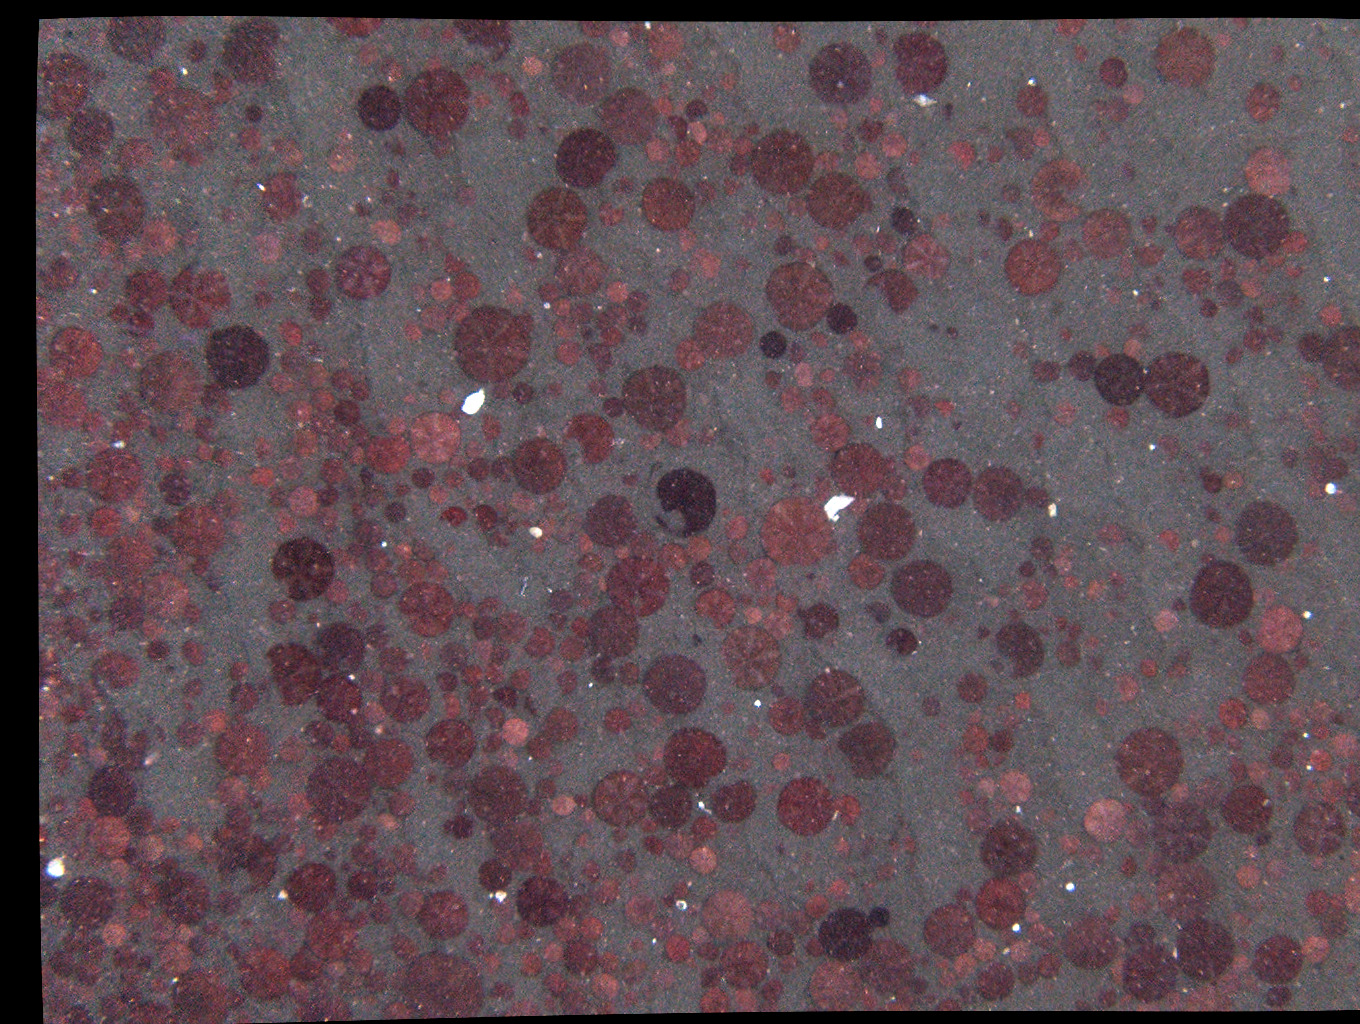Substrate A: (70, 26, 89, 41)
sand dollar: (450, 305, 536, 382), (407, 949, 493, 1022), (760, 495, 832, 564), (407, 74, 476, 146), (652, 465, 718, 534), (765, 262, 833, 329), (221, 18, 286, 84), (1189, 560, 1252, 625), (1233, 504, 1297, 569), (307, 756, 376, 815), (858, 500, 922, 561), (626, 362, 690, 424), (1144, 353, 1208, 414), (1225, 194, 1289, 255), (1155, 27, 1219, 88), (1031, 157, 1096, 218), (810, 166, 874, 227), (78, 177, 143, 239), (108, 12, 172, 73), (396, 579, 460, 640), (272, 539, 337, 600), (143, 351, 207, 412), (552, 123, 616, 184), (468, 760, 532, 822), (800, 667, 864, 728), (1174, 920, 1239, 981), (1116, 941, 1180, 1002), (1240, 650, 1304, 711), (1153, 862, 1217, 923), (891, 554, 955, 615), (831, 441, 894, 502), (691, 298, 755, 359), (1008, 236, 1072, 297), (806, 39, 870, 100), (333, 239, 397, 300), (206, 326, 270, 387), (164, 266, 228, 327), (247, 159, 311, 221), (35, 58, 99, 119), (719, 625, 783, 686), (604, 551, 668, 612), (605, 74, 669, 136), (549, 43, 613, 104), (631, 180, 695, 241), (589, 768, 653, 829), (974, 821, 1037, 882), (836, 720, 900, 781), (887, 32, 951, 93), (754, 131, 818, 191), (256, 644, 320, 705), (513, 432, 577, 493), (169, 503, 233, 564), (524, 190, 588, 251), (781, 774, 845, 835), (1002, 617, 1066, 678), (146, 93, 210, 153), (661, 729, 725, 790), (645, 658, 708, 719), (803, 956, 867, 1016), (1121, 731, 1185, 792), (700, 884, 759, 945), (552, 247, 612, 304), (83, 452, 141, 510), (1170, 205, 1228, 262), (1154, 803, 1212, 861), (409, 407, 467, 463), (301, 919, 359, 975), (286, 862, 344, 918), (237, 945, 295, 1001), (101, 705, 159, 760), (514, 876, 571, 931), (1218, 782, 1275, 838), (971, 465, 1029, 520), (211, 724, 269, 779), (216, 834, 274, 888), (174, 969, 232, 1024), (152, 868, 210, 923), (59, 877, 117, 931), (87, 764, 145, 819), (353, 728, 411, 783), (321, 667, 380, 722), (376, 672, 434, 727), (311, 623, 369, 678), (1288, 805, 1346, 859), (1180, 959, 1236, 1015), (409, 886, 466, 941), (1080, 204, 1139, 258), (38, 382, 94, 437), (1066, 915, 1122, 970), (1251, 929, 1307, 984), (862, 936, 919, 990), (920, 456, 975, 511), (1241, 144, 1295, 199), (821, 906, 876, 959), (65, 108, 117, 163), (587, 495, 641, 549), (869, 261, 924, 314), (1317, 323, 1360, 389), (919, 907, 973, 959), (47, 327, 100, 380), (724, 934, 776, 986), (1090, 353, 1142, 407), (140, 573, 194, 625), (590, 610, 643, 662), (566, 411, 619, 461), (456, 18, 517, 62), (493, 817, 547, 866), (425, 721, 479, 768), (1250, 605, 1305, 652), (973, 877, 1022, 928), (84, 815, 137, 864), (903, 233, 953, 282), (1080, 790, 1131, 837), (99, 646, 147, 695), (970, 956, 1019, 1004), (108, 532, 154, 582), (713, 780, 759, 828), (649, 786, 695, 834), (123, 265, 172, 308), (354, 88, 401, 131), (324, 15, 389, 45), (123, 989, 177, 1024), (801, 599, 843, 639), (692, 587, 735, 626), (370, 433, 410, 473), (1246, 79, 1285, 119), (309, 994, 359, 1024), (765, 698, 804, 736), (811, 413, 851, 449), (40, 258, 81, 293), (151, 221, 185, 259), (851, 549, 887, 585), (1212, 696, 1248, 730), (885, 626, 924, 658), (118, 140, 155, 173), (850, 362, 887, 396), (649, 27, 686, 59), (343, 42, 377, 75), (998, 771, 1032, 803), (563, 940, 597, 972), (396, 841, 428, 873), (667, 422, 698, 454), (746, 558, 777, 591), (112, 598, 143, 629), (802, 227, 835, 256), (1164, 654, 1194, 685), (381, 643, 414, 671), (1117, 252, 1150, 280), (549, 288, 579, 318), (277, 733, 306, 764), (376, 807, 407, 836), (546, 709, 574, 740), (386, 787, 417, 815), (1155, 529, 1182, 561), (60, 177, 89, 207), (62, 216, 91, 245), (35, 293, 65, 322), (117, 339, 146, 368), (106, 299, 135, 328), (372, 217, 401, 246), (399, 193, 428, 222), (128, 310, 157, 339), (118, 237, 147, 266), (178, 224, 207, 253), (178, 143, 207, 172), (384, 165, 413, 194), (505, 117, 534, 146), (507, 85, 536, 114), (488, 67, 517, 96), (522, 49, 552, 79), (460, 87, 489, 116), (462, 54, 491, 83), (442, 23, 471, 52), (433, 139, 462, 168), (420, 51, 449, 80), (278, 318, 307, 347), (255, 283, 284, 312), (307, 291, 337, 321), (306, 266, 335, 295), (253, 236, 282, 265), (300, 228, 329, 257), (449, 182, 478, 211), (380, 138, 409, 167), (329, 144, 358, 173), (377, 57, 406, 86), (149, 62, 178, 91), (178, 37, 207, 66), (209, 74, 238, 103), (276, 139, 305, 168), (241, 127, 270, 156), (245, 100, 274, 129), (74, 158, 103, 187), (163, 146, 192, 175), (31, 169, 60, 198), (777, 383, 806, 412), (788, 360, 817, 389), (824, 304, 853, 333), (805, 325, 834, 354), (754, 358, 783, 387), (781, 336, 810, 365), (756, 330, 785, 359), (728, 252, 757, 281), (695, 248, 724, 278), (579, 347, 609, 376), (595, 316, 624, 345), (550, 343, 579, 372), (549, 308, 578, 337), (578, 298, 607, 327), (630, 311, 659, 340), (677, 339, 706, 368), (832, 250, 861, 279), (790, 237, 819, 266), (765, 231, 794, 260), (781, 191, 810, 221), (762, 208, 791, 237), (677, 225, 706, 254), (719, 177, 748, 207), (692, 176, 721, 205), (664, 266, 693, 295), (625, 285, 654, 314), (604, 274, 633, 303), (502, 281, 531, 310), (531, 275, 560, 304), (518, 239, 547, 268), (617, 171, 646, 200), (597, 198, 626, 227), (464, 430, 493, 459), (479, 411, 509, 440), (391, 468, 420, 497), (337, 547, 366, 577), (271, 504, 300, 534), (359, 542, 388, 571), (347, 522, 376, 551), (380, 497, 409, 526), (440, 381, 469, 410), (343, 499, 372, 528), (363, 482, 392, 511), (315, 504, 344, 534), (318, 475, 347, 504), (281, 453, 310, 482), (385, 409, 414, 438), (325, 455, 354, 484), (347, 440, 376, 469), (346, 419, 375, 449), (324, 421, 353, 450), (333, 394, 362, 423), (311, 410, 340, 439), (312, 385, 341, 414), (346, 373, 375, 402), (324, 365, 353, 394), (303, 355, 332, 384), (284, 394, 313, 423), (266, 371, 295, 400), (448, 303, 477, 332), (425, 300, 454, 329), (424, 273, 453, 302), (452, 267, 481, 296), (441, 247, 470, 276), (868, 93, 897, 122), (863, 117, 892, 146), (734, 115, 763, 144), (813, 145, 842, 174), (820, 103, 849, 132), (865, 39, 894, 68), (729, 153, 758, 182), (727, 130, 756, 159), (704, 132, 733, 161), (719, 68, 748, 97), (671, 139, 700, 168), (647, 133, 676, 162), (688, 111, 717, 140), (659, 112, 688, 141), (701, 101, 730, 130), (681, 93, 710, 122), (773, 24, 802, 53), (655, 87, 684, 116), (650, 59, 679, 88), (582, 17, 611, 46), (192, 552, 221, 581), (144, 512, 173, 541), (275, 487, 304, 516), (250, 465, 280, 494), (232, 510, 261, 539), (248, 425, 277, 454), (213, 487, 242, 516), (212, 446, 241, 475), (178, 446, 207, 475), (207, 384, 237, 413), (174, 412, 203, 441), (145, 417, 174, 446), (153, 449, 182, 478), (110, 423, 139, 452), (124, 492, 153, 521), (54, 509, 83, 538), (58, 467, 87, 496), (37, 362, 66, 392), (204, 570, 233, 599), (252, 803, 281, 833), (693, 561, 722, 591), (684, 530, 713, 559), (659, 545, 688, 574), (628, 526, 657, 555), (604, 538, 633, 567), (757, 459, 786, 488), (700, 419, 729, 449), (574, 547, 603, 577), (621, 460, 650, 489), (602, 390, 631, 419), (542, 373, 571, 402), (588, 369, 617, 398), (571, 527, 600, 556), (547, 512, 576, 541), (509, 488, 538, 517), (487, 516, 516, 545), (469, 501, 498, 530), (382, 528, 411, 557), (438, 499, 467, 528), (491, 378, 520, 407), (456, 450, 485, 479), (446, 468, 475, 497), (438, 687, 467, 716), (504, 717, 533, 746), (547, 669, 576, 698), (503, 679, 532, 708), (553, 637, 582, 666), (566, 613, 595, 642), (573, 577, 602, 606), (550, 586, 579, 615), (522, 629, 552, 658), (496, 614, 525, 643), (489, 643, 518, 672), (477, 660, 506, 689), (468, 637, 497, 666), (443, 638, 472, 667), (418, 636, 447, 665), (334, 727, 363, 756), (363, 695, 392, 724), (355, 660, 384, 689), (305, 714, 334, 743), (237, 681, 266, 710), (226, 654, 255, 683), (470, 611, 499, 640), (482, 588, 511, 617), (455, 597, 484, 626), (362, 616, 391, 645), (270, 595, 299, 624), (427, 552, 456, 581), (397, 531, 426, 560), (395, 556, 424, 585), (373, 571, 402, 600), (343, 592, 372, 621), (323, 578, 352, 607), (282, 787, 311, 816), (138, 833, 167, 862), (132, 874, 161, 904), (103, 850, 132, 879), (271, 826, 300, 855), (205, 811, 234, 840), (227, 800, 256, 829), (252, 770, 281, 799), (180, 828, 209, 857), (153, 809, 182, 838), (133, 802, 162, 831), (175, 714, 204, 743), (52, 815, 81, 844), (73, 796, 102, 825), (52, 586, 81, 615), (110, 579, 139, 608), (67, 546, 96, 575), (65, 724, 94, 753), (39, 685, 68, 714), (78, 682, 108, 711), (58, 699, 87, 728), (65, 610, 94, 639), (175, 601, 204, 630), (200, 706, 229, 735), (178, 674, 207, 703), (143, 634, 172, 663), (178, 634, 207, 663), (135, 617, 164, 646), (35, 981, 65, 1010), (65, 995, 94, 1024), (153, 967, 182, 996), (124, 977, 153, 1006), (87, 992, 116, 1021), (103, 943, 132, 972), (71, 934, 100, 963), (68, 959, 97, 989), (41, 949, 70, 978), (56, 928, 85, 957), (224, 985, 253, 1014), (178, 923, 207, 952), (159, 942, 188, 971), (153, 913, 182, 942), (123, 904, 152, 933), (101, 920, 130, 949), (479, 862, 509, 891), (220, 887, 249, 916), (288, 978, 317, 1007), (297, 949, 326, 978), (347, 869, 376, 898), (346, 907, 375, 936), (383, 993, 412, 1022), (337, 972, 366, 1001), (319, 958, 348, 987), (361, 968, 390, 997), (352, 945, 381, 975), (387, 931, 416, 961), (368, 897, 397, 926), (393, 886, 423, 915), (373, 865, 402, 894), (372, 849, 401, 878), (354, 821, 383, 850), (347, 841, 376, 870), (528, 733, 557, 762), (493, 737, 522, 766), (477, 723, 506, 752), (479, 698, 509, 727), (469, 687, 498, 716), (444, 814, 473, 843), (312, 817, 341, 847), (461, 930, 490, 959), (764, 976, 793, 1005), (730, 984, 759, 1013), (698, 986, 727, 1015), (701, 959, 730, 989), (679, 918, 708, 947), (638, 912, 667, 941), (621, 897, 650, 926), (593, 879, 622, 908), (576, 854, 605, 883), (618, 848, 647, 877), (567, 831, 596, 861), (535, 847, 564, 876), (630, 815, 659, 844), (691, 844, 720, 873), (665, 830, 695, 859), (693, 813, 722, 842), (618, 696, 647, 725), (590, 655, 619, 684), (641, 758, 670, 787), (575, 797, 604, 826), (547, 793, 576, 822), (601, 706, 630, 735), (538, 938, 567, 967), (576, 913, 605, 942), (554, 915, 583, 944), (567, 892, 596, 921), (481, 894, 510, 923), (482, 952, 511, 981), (497, 975, 526, 1004), (522, 941, 552, 970), (539, 968, 568, 997), (561, 984, 590, 1013), (596, 966, 625, 995), (592, 945, 621, 975), (622, 956, 652, 985), (650, 958, 679, 987), (597, 987, 626, 1016), (1015, 868, 1044, 897), (1231, 943, 1260, 972), (1227, 907, 1256, 936), (1262, 985, 1291, 1014), (1215, 968, 1244, 997), (1163, 984, 1192, 1013), (1073, 991, 1102, 1020), (1088, 980, 1117, 1009), (1099, 958, 1128, 987), (1136, 916, 1165, 945), (1105, 898, 1134, 927), (1123, 888, 1153, 918), (1132, 794, 1161, 823), (1121, 823, 1150, 852), (1116, 859, 1145, 888), (1079, 843, 1108, 872), (1056, 828, 1085, 857), (1046, 953, 1075, 982), (1015, 957, 1044, 986), (1031, 926, 1060, 955), (1023, 904, 1053, 933), (1006, 933, 1035, 962), (941, 984, 970, 1013), (969, 929, 998, 958), (950, 945, 979, 975), (937, 962, 967, 991), (915, 969, 944, 998), (888, 987, 917, 1016), (958, 779, 987, 808), (951, 879, 980, 908), (863, 906, 892, 935), (791, 935, 820, 964), (770, 951, 799, 980), (768, 925, 797, 954), (750, 902, 779, 931), (808, 885, 838, 914), (903, 829, 932, 858), (956, 757, 985, 786), (863, 841, 892, 870), (826, 828, 855, 857), (835, 793, 864, 822), (961, 703, 990, 733), (1016, 689, 1045, 719), (988, 725, 1017, 754), (959, 730, 988, 759), (801, 722, 830, 751), (947, 569, 976, 598), (1063, 573, 1092, 602), (1054, 550, 1083, 579), (1022, 581, 1051, 610), (970, 612, 999, 641), (983, 585, 1012, 614), (1017, 545, 1046, 574), (1030, 532, 1059, 561), (1027, 477, 1056, 506), (771, 671, 800, 700), (713, 691, 742, 720), (769, 606, 798, 635), (776, 583, 805, 612), (732, 537, 761, 566), (727, 508, 756, 537), (867, 595, 896, 624), (934, 392, 963, 421), (908, 396, 937, 425), (899, 366, 928, 395), (906, 441, 935, 470), (881, 450, 910, 479), (883, 474, 912, 503), (806, 472, 835, 501), (816, 360, 845, 389), (803, 386, 832, 415), (1331, 782, 1360, 811), (1314, 776, 1343, 805), (1278, 764, 1307, 793), (1285, 699, 1314, 728), (1246, 703, 1275, 733), (1326, 910, 1355, 939), (1303, 888, 1332, 918), (1302, 933, 1331, 962), (1261, 861, 1290, 890), (1248, 830, 1277, 859), (1242, 762, 1271, 791), (1220, 762, 1249, 791), (1293, 642, 1322, 671), (1227, 625, 1256, 654), (1204, 727, 1233, 756), (1197, 777, 1226, 806), (1168, 774, 1197, 803), (1178, 710, 1207, 739), (1091, 692, 1120, 721), (1069, 618, 1098, 648), (1135, 653, 1164, 682), (1060, 638, 1089, 667), (1049, 611, 1078, 640), (1160, 594, 1189, 623), (1204, 523, 1233, 552), (1147, 605, 1176, 634), (1246, 579, 1275, 608), (1302, 535, 1331, 564), (1097, 523, 1126, 552), (1303, 749, 1332, 778), (1270, 738, 1299, 767), (1275, 721, 1304, 750), (1311, 692, 1340, 721), (1305, 722, 1334, 751), (1331, 730, 1360, 759), (1331, 428, 1360, 457), (1088, 332, 1117, 361), (1054, 402, 1083, 431), (1002, 395, 1031, 424), (1066, 355, 1096, 384), (1033, 356, 1062, 385), (1004, 341, 1033, 370), (1102, 283, 1131, 312), (1122, 155, 1151, 184), (1002, 180, 1031, 209), (990, 218, 1019, 247), (1037, 217, 1066, 246), (1139, 207, 1168, 236), (1060, 232, 1089, 261), (929, 209, 958, 238), (888, 207, 917, 236), (868, 231, 897, 260), (856, 245, 885, 274), (843, 231, 872, 260), (884, 165, 913, 194), (949, 137, 978, 166), (979, 140, 1008, 169), (1006, 128, 1035, 157), (1037, 127, 1066, 156), (853, 152, 882, 181), (881, 129, 910, 158), (1223, 414, 1252, 443), (1275, 452, 1304, 481), (1223, 469, 1252, 498), (1194, 469, 1223, 498), (1187, 437, 1216, 466), (1156, 433, 1185, 463), (1021, 432, 1050, 461), (1110, 404, 1139, 433), (1121, 336, 1150, 365), (1137, 288, 1166, 317), (1147, 242, 1176, 271), (1306, 441, 1335, 470), (1299, 404, 1328, 433), (1297, 370, 1326, 399), (1300, 336, 1329, 365), (1321, 298, 1350, 327), (1245, 327, 1274, 356), (1221, 341, 1250, 370), (1318, 456, 1347, 485), (1302, 465, 1331, 494), (1331, 486, 1360, 515), (1098, 99, 1127, 128), (1123, 75, 1153, 104), (1252, 303, 1282, 332), (1263, 252, 1292, 281), (1247, 276, 1276, 305), (1237, 251, 1266, 280), (1216, 285, 1245, 314), (1214, 255, 1243, 284), (1187, 304, 1216, 333), (1183, 267, 1212, 296), (1284, 226, 1313, 255), (1220, 18, 1249, 47), (1331, 122, 1360, 151), (1283, 66, 1312, 95), (1269, 39, 1298, 68), (1018, 86, 1047, 115), (1102, 58, 1131, 87), (1072, 39, 1101, 68), (1058, 12, 1087, 41), (1110, 18, 1139, 47), (399, 278, 429, 305), (429, 482, 460, 509), (429, 669, 460, 696), (925, 692, 950, 724), (94, 234, 121, 264), (39, 150, 68, 177), (740, 207, 769, 234), (401, 321, 430, 349), (405, 463, 434, 490), (281, 349, 310, 376), (638, 45, 665, 74), (194, 409, 221, 438), (120, 392, 149, 419), (161, 477, 190, 504), (94, 506, 121, 535), (638, 426, 665, 455), (524, 520, 553, 547), (509, 662, 536, 691), (455, 662, 484, 689), (352, 719, 381, 746), (215, 776, 244, 803), (44, 648, 73, 675), (699, 931, 728, 959), (661, 931, 690, 959), (616, 662, 645, 689), (768, 750, 796, 779), (493, 918, 522, 945), (509, 990, 536, 1019), (824, 869, 851, 898), (955, 675, 984, 703), (738, 597, 765, 626), (1239, 861, 1266, 890), (1111, 675, 1140, 703), (1096, 574, 1123, 603), (1196, 498, 1223, 527), (1053, 321, 1080, 350), (974, 207, 1003, 234), (1325, 35, 1352, 65), (87, 415, 114, 445), (492, 451, 519, 481), (528, 771, 554, 802), (74, 742, 108, 766), (516, 379, 544, 407), (962, 803, 990, 831), (424, 858, 450, 887), (288, 902, 315, 931), (609, 25, 641, 48), (665, 881, 693, 908), (294, 428, 323, 454), (546, 490, 570, 522), (404, 22, 431, 48), (1343, 881, 1360, 922), (785, 905, 812, 930), (357, 460, 383, 486), (292, 488, 318, 514), (846, 494, 871, 521), (638, 837, 665, 861), (443, 767, 468, 793), (695, 79, 718, 101), (1346, 817, 1360, 849), (1346, 839, 1360, 870)
